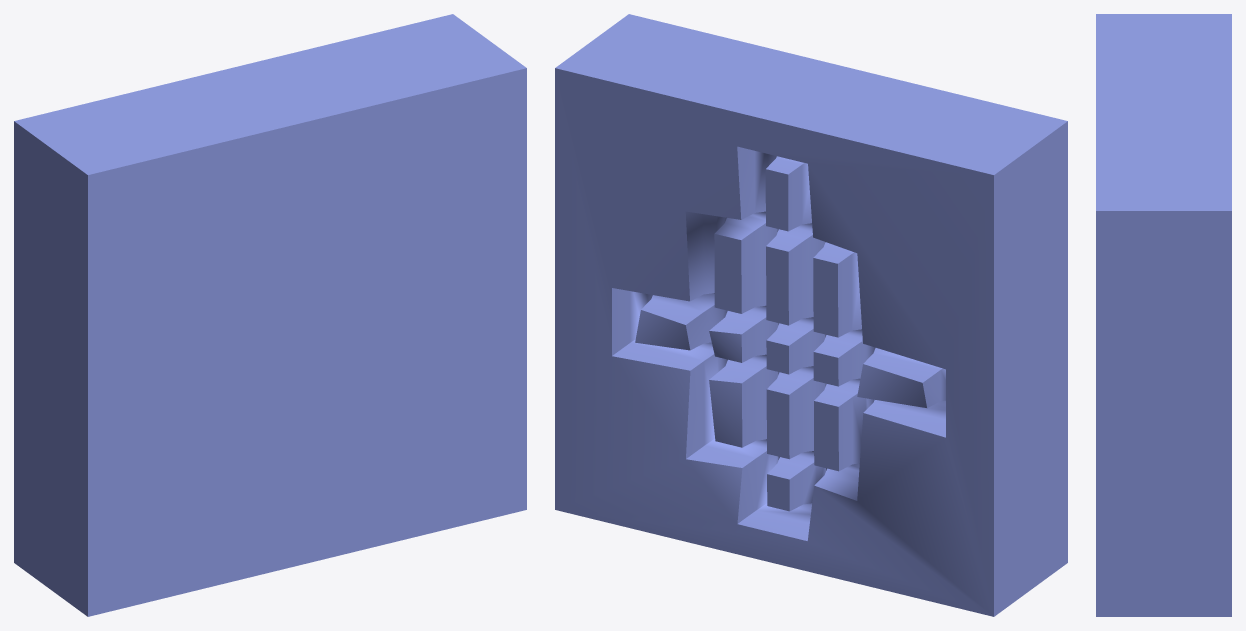
The model's file is FYP_TempleTrapCorridor_CodeBTN9.FBX.
3 renders of one model, left to right at view 1: azimuth 30°, elevation 25°; view 2: azimuth 150°, elevation 25°; view 3: azimuth 270°, elevation 25°, orthographic. The views are drawn at different scales.
Visible parts, largest first — view 1: 9thBox; view 2: 9thBox; view 3: 9thBox.
Boxes of the visible parts, <box> form: 9thBox: <box>14,14,526,616</box>; 9thBox: <box>555,14,1067,616</box>; 9thBox: <box>1096,14,1231,616</box>.
Bounding box in the file's own units: 2.6 × 2.5 × 0.7583.
